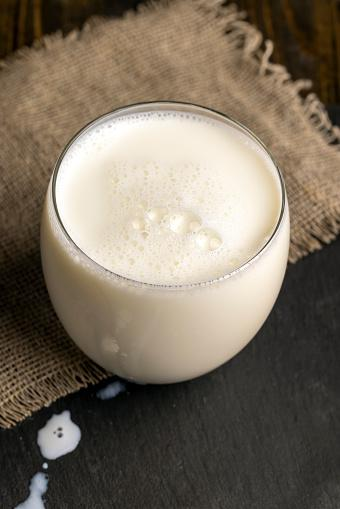produk_susu: (86, 120, 245, 364)
